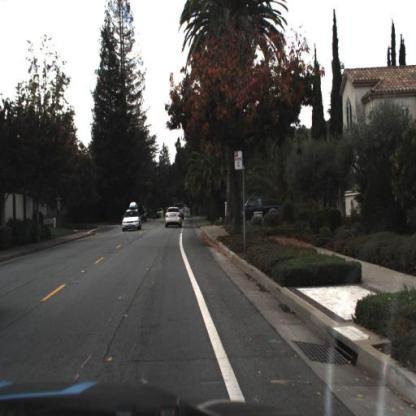car: (238, 195, 274, 221), (123, 200, 144, 234), (163, 205, 186, 230)
